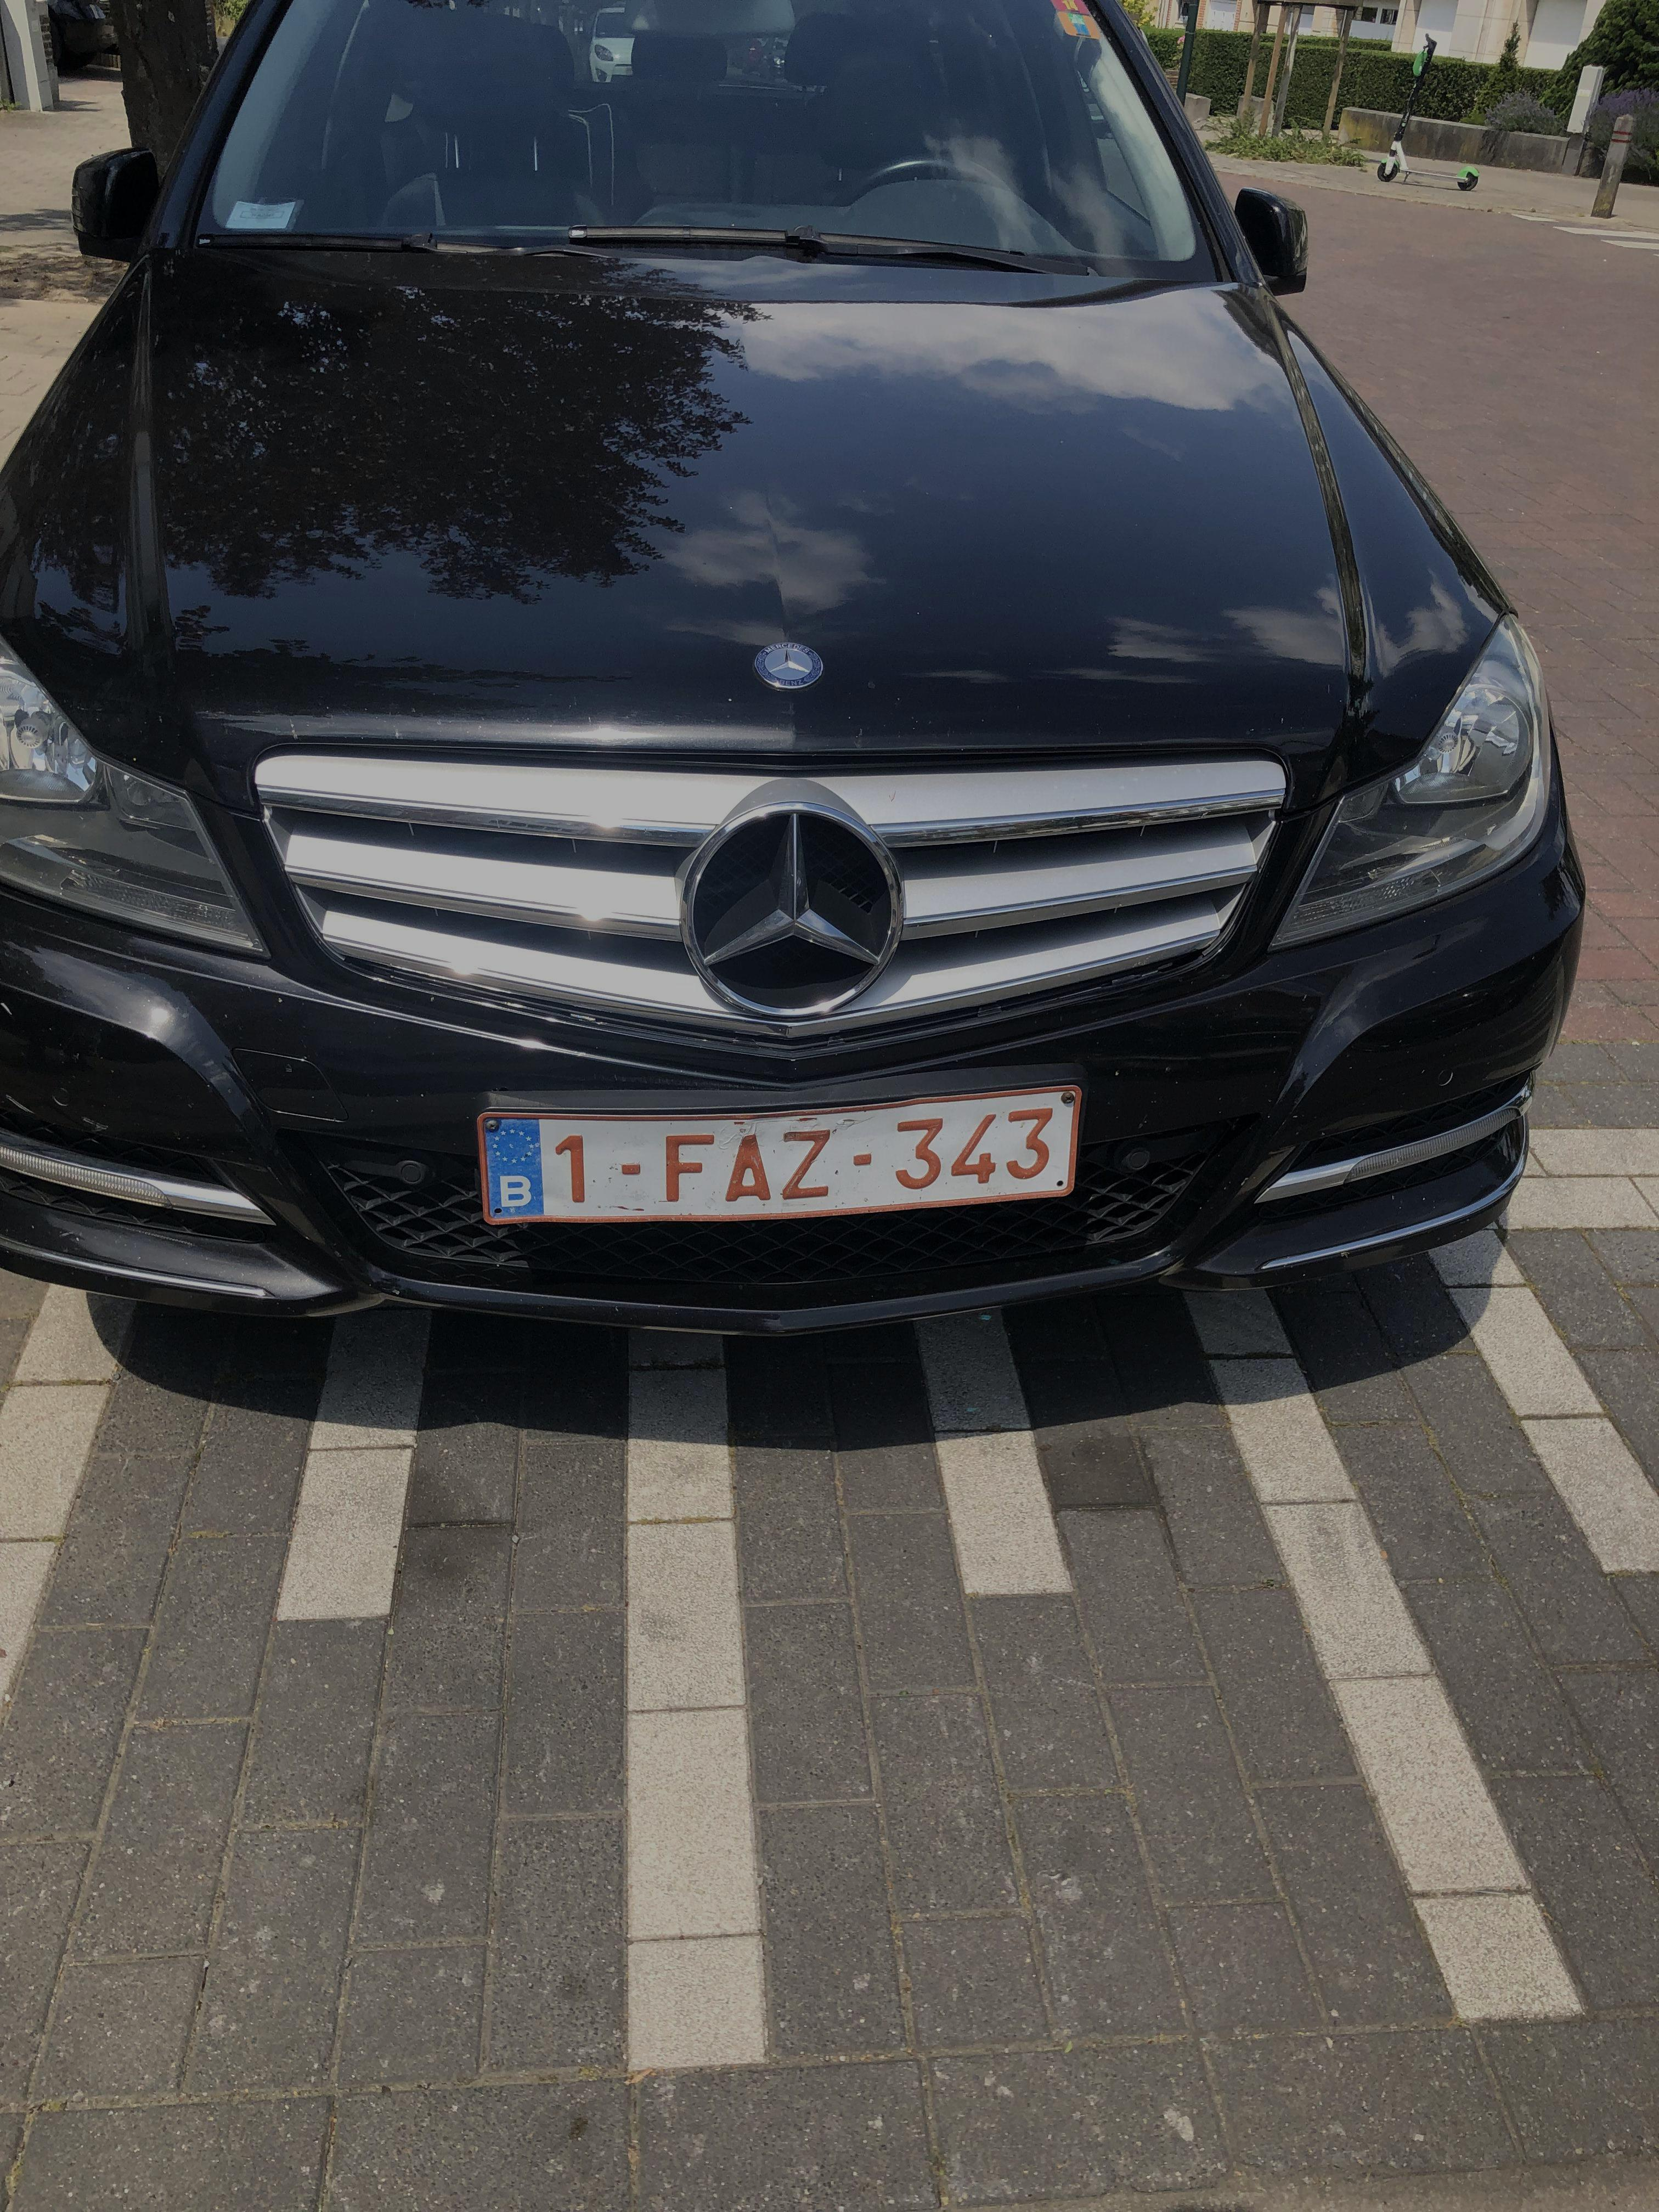plate: (449, 1070, 1097, 1235)
